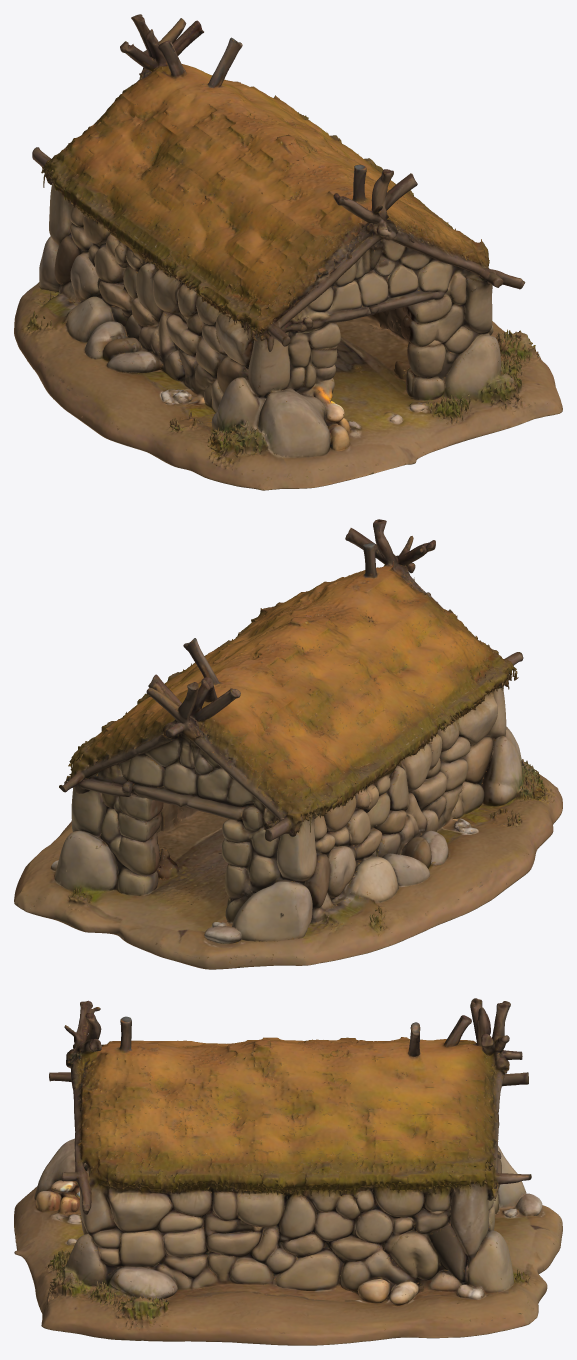
Rendered from steinhaus_original.glb.
3 views of the same model, one above another, from view 1: azimuth 30°, elevation 25°; view 2: azimuth 150°, elevation 25°; view 3: azimuth 270°, elevation 25° (orthographic). The views are drawn at different scales.
Size of the model in its own units: 1.6 by 0.9966 by 1.99.
Materials: 1 (1 with a texture image).
